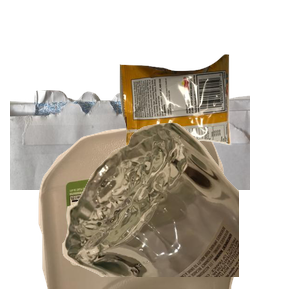glass: (60, 120, 300, 300)
paper: (10, 84, 250, 264)
plastic: (36, 120, 265, 300)
trash: (117, 52, 300, 193)
